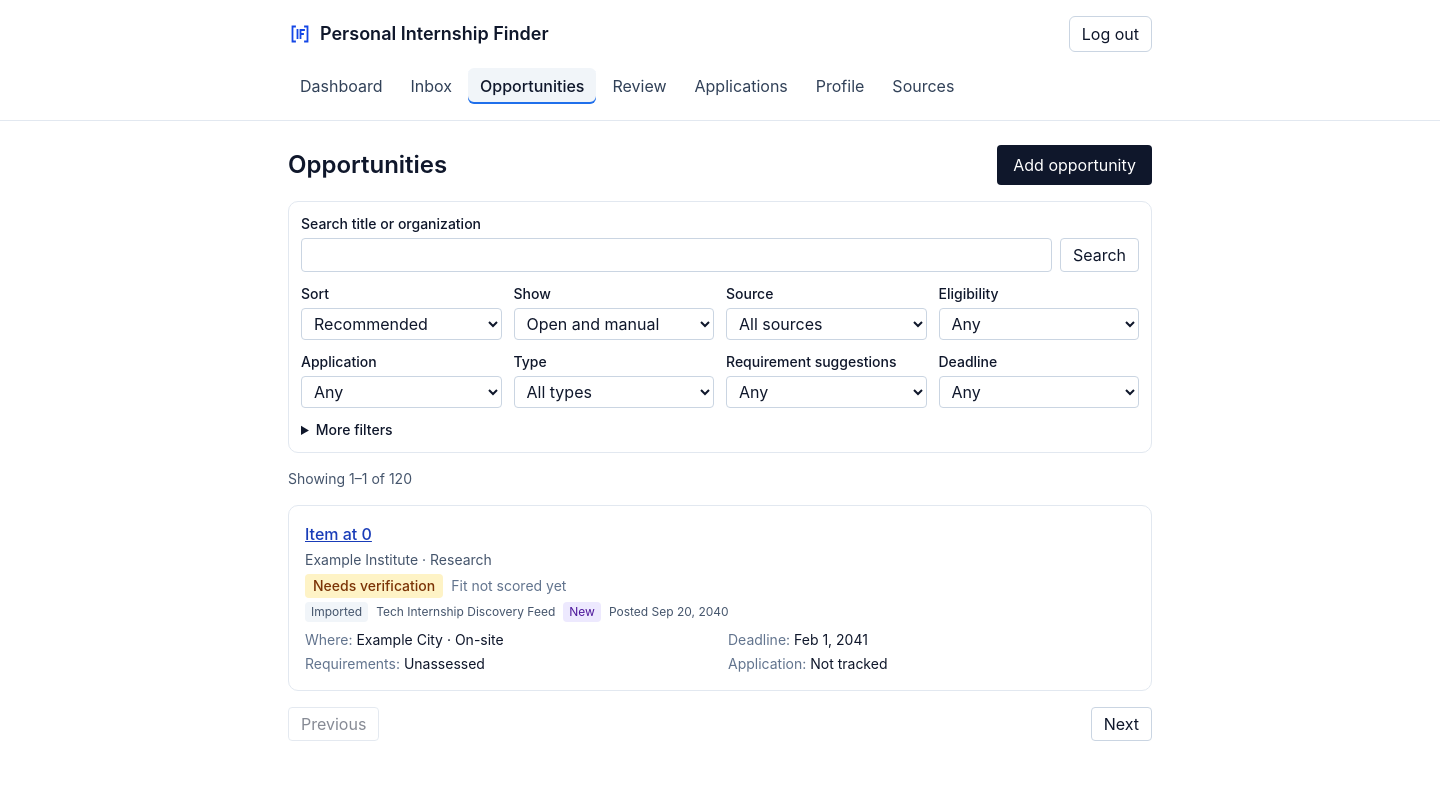
Test: discovery list › requests one bounded page and pages through the rest
The image size is (1440, 810).
Expected: the link "Item at 0" is shown, [305,524,372,544]
Expected: the button "Previous" is disabled, [288,707,379,741]
Click the button "Next". click: [1121, 724]
box: [1091,707,1152,741]
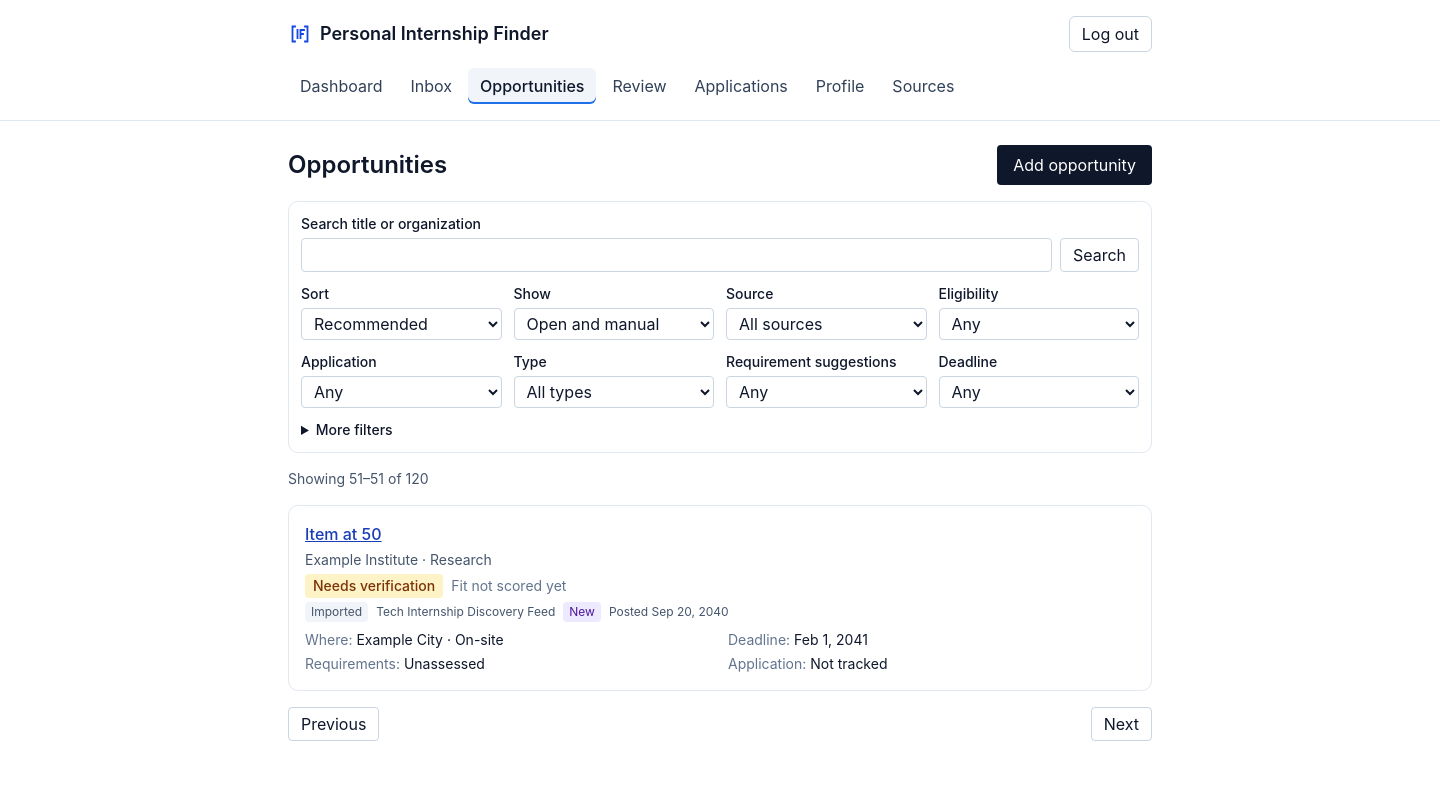
Now the link "Item at 50" is shown, box [305,524,382,544]
Click the button "Previous". click: [334, 724]
box: [288,707,379,741]
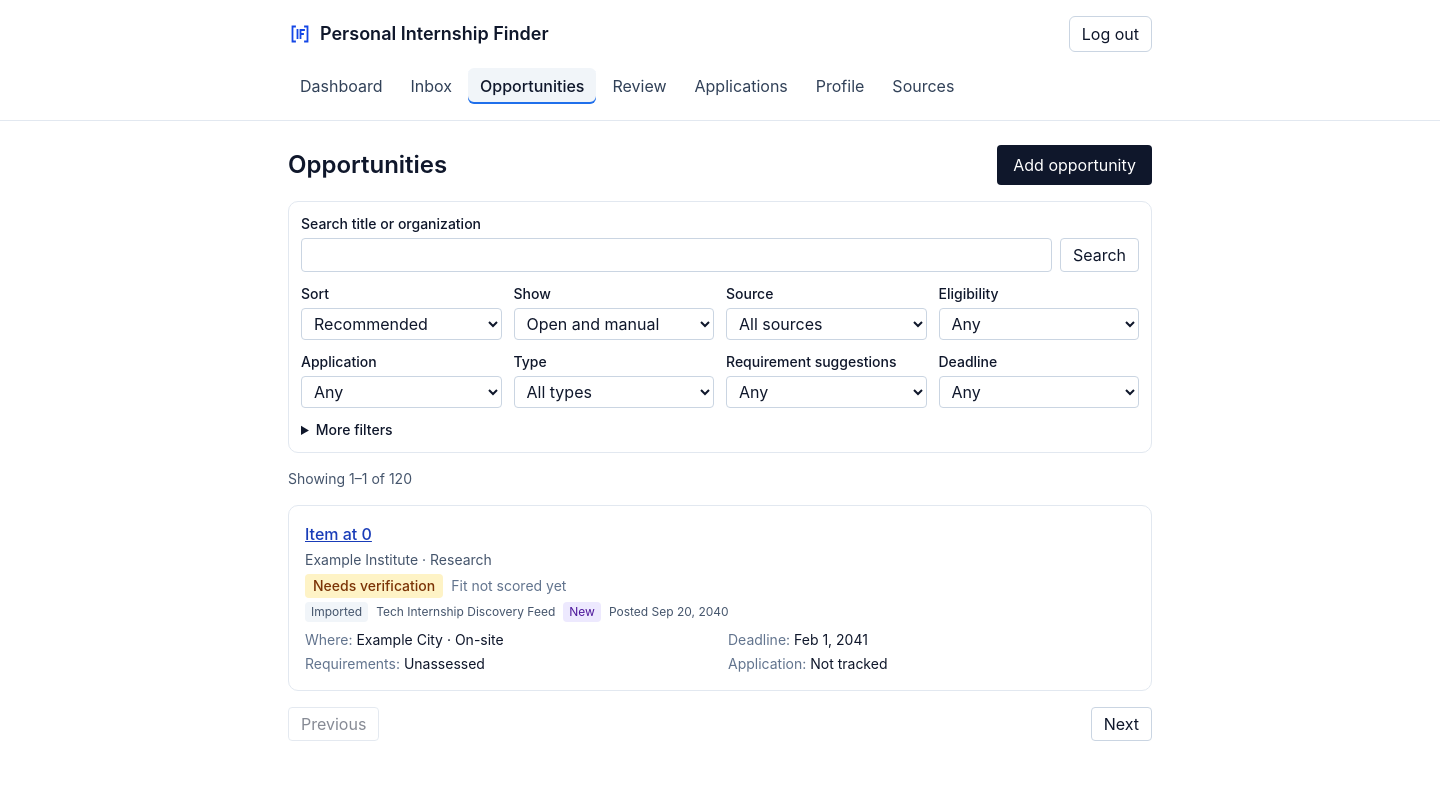
Now the link "Item at 0" is shown, box [305,524,372,544]
